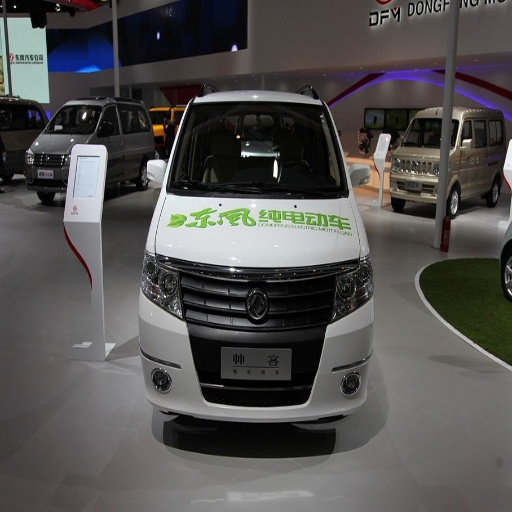front_bumper: (139, 260, 375, 422)
front_right_light: (142, 249, 183, 318)
hood: (157, 192, 362, 279)
